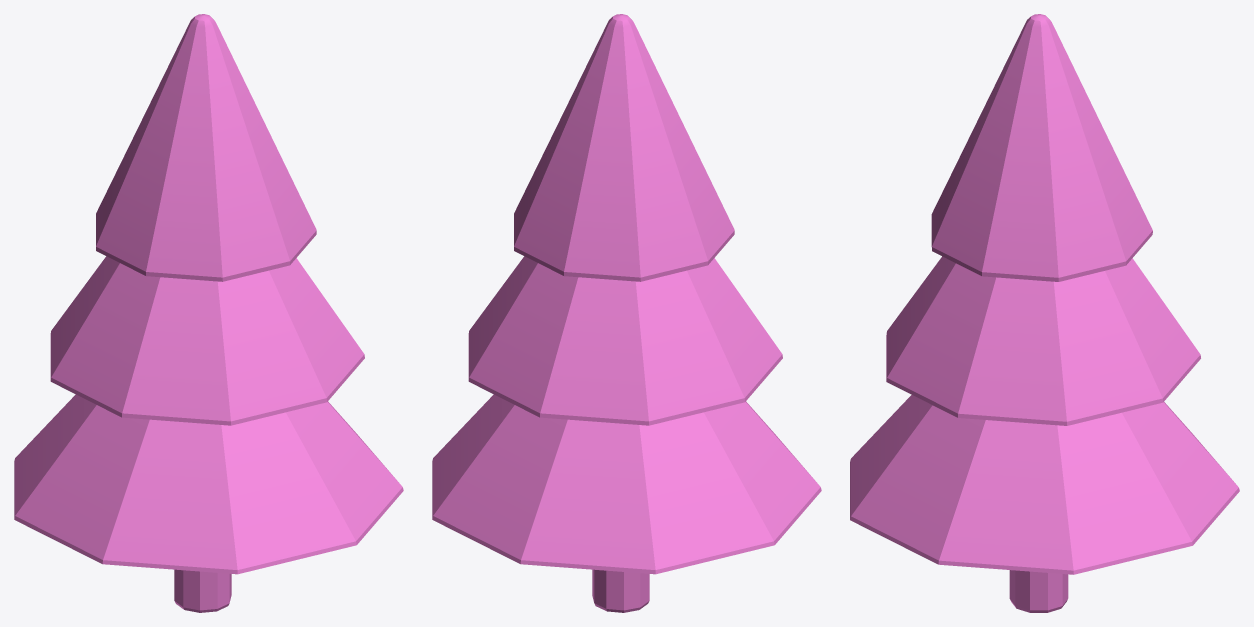
The model's file is Mountain_Pine.fbx.
3 renders of one model, left to right at view 1: azimuth 30°, elevation 25°; view 2: azimuth 150°, elevation 25°; view 3: azimuth 270°, elevation 25°, orthographic.
Visible parts, largest first — view 1: Pine; view 2: Pine; view 3: Pine.
Part boxes in pixels (x1,y1,x2,y2): Pine: (14, 14, 403, 612); Pine: (432, 14, 821, 612); Pine: (850, 14, 1239, 612).
Size of the model in its own units: 8.12 by 13.3 by 8.
1 material, 1 textured.
